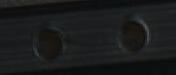joints: (30, 22, 69, 62), (116, 12, 151, 54)
